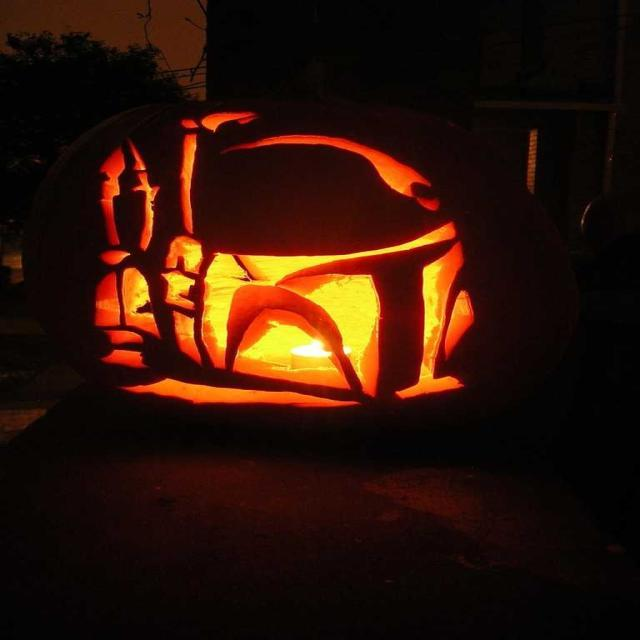Fire: (127, 267, 398, 377)
